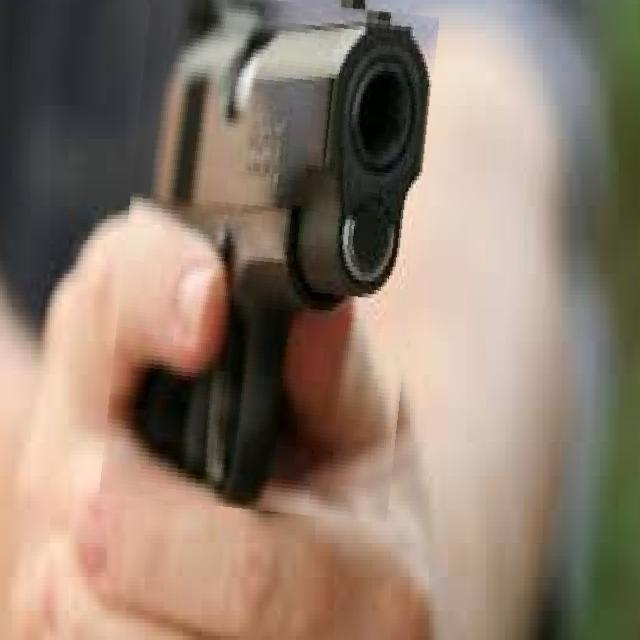Gun_Holder: (7, 0, 458, 640)
